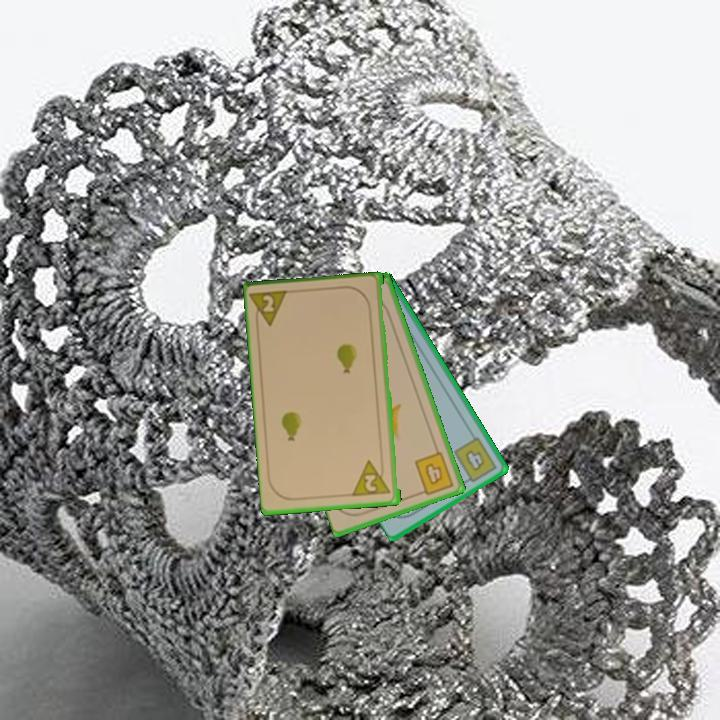2p: (249, 287, 293, 331), (350, 457, 394, 499)
4b: (450, 433, 500, 487), (411, 448, 457, 498)
